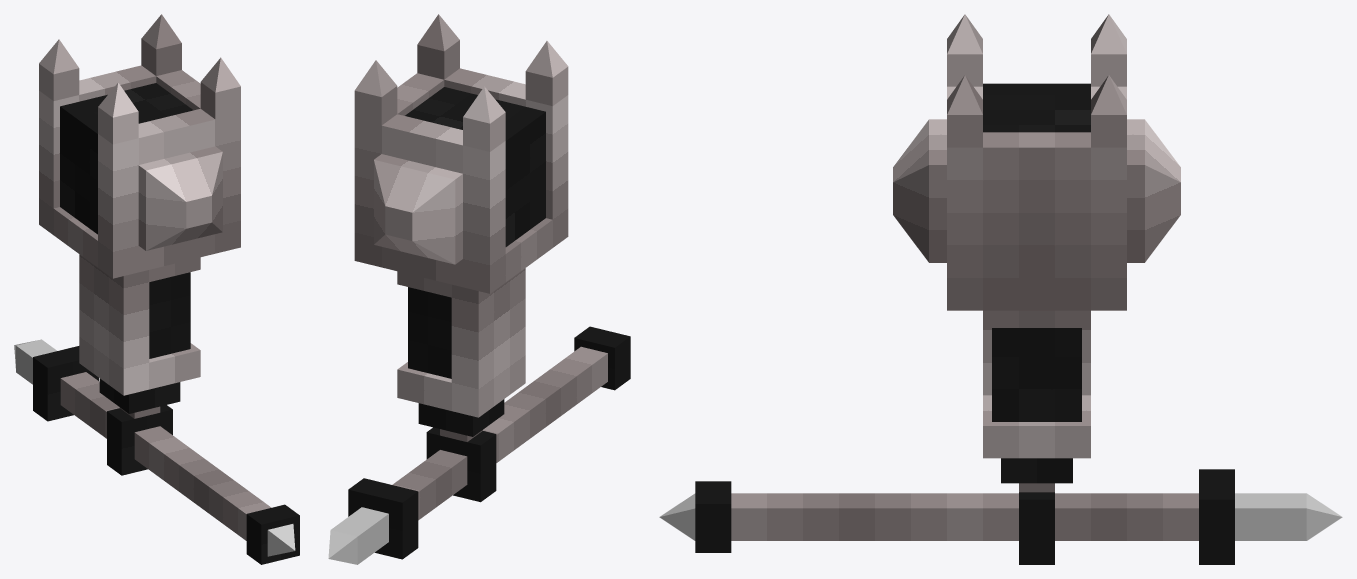
The model's file is arm_caster_l.obj.
The picture shows the model from 3 angles, left to right: view 1: azimuth 30°, elevation 25°; view 2: azimuth 150°, elevation 25°; view 3: azimuth 270°, elevation 25°; orthographic projection. The views are drawn at different scales.
Parts seen in each view (by area): view 1: ARM_LEFT_CASTER_Cube.000, ARM_LEFT_DECO_IRON_Cube.151; view 2: ARM_LEFT_CASTER_Cube.000, ARM_LEFT_DECO_IRON_Cube.151; view 3: ARM_LEFT_CASTER_Cube.000, ARM_LEFT_DECO_IRON_Cube.151.
Part boxes in pixels (x1,y1,x2,y2): ARM_LEFT_CASTER_Cube.000: (14,65,299,564); ARM_LEFT_DECO_IRON_Cube.151: (39,14,240,250); ARM_LEFT_CASTER_Cube.000: (328,68,630,564); ARM_LEFT_DECO_IRON_Cube.151: (354,14,568,264); ARM_LEFT_CASTER_Cube.000: (659,83,1342,564); ARM_LEFT_DECO_IRON_Cube.151: (893,14,1180,262).
Bounding box in the file's own units: 0.3125 × 0.9688 × 1.19.
